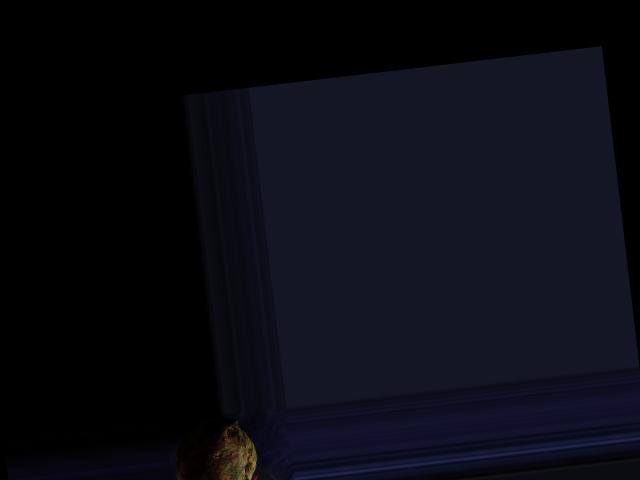beet: (170, 412, 262, 480)
